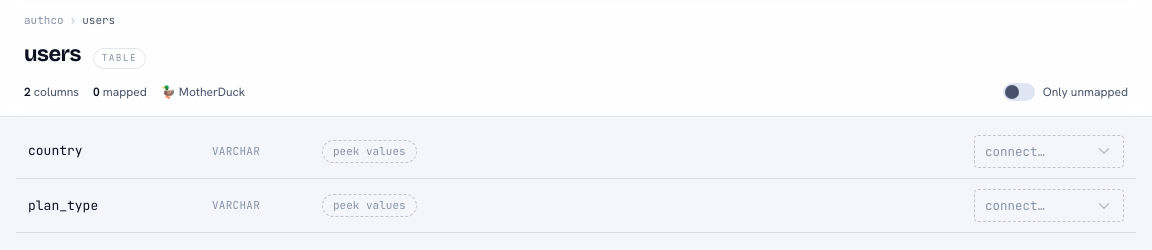
Test: TableDetail › reveals sample values on demand
Click the button "peek values" in the row of "country". click: (369, 151)
box: [322,140,417,163]
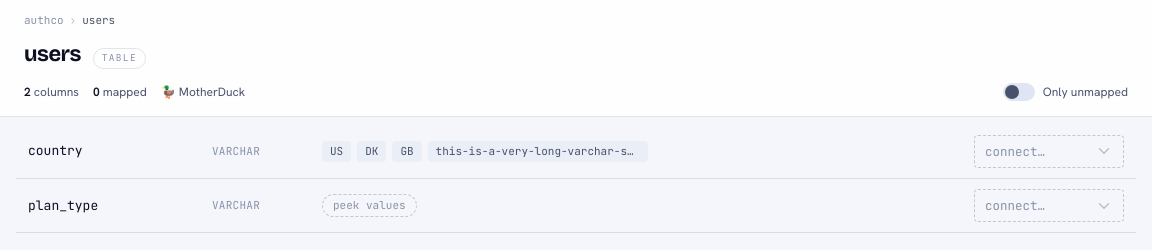
Expected: the text "US" is shown, [322,141,351,162]
Expected: the text "DK" is shown, [357,141,386,162]
